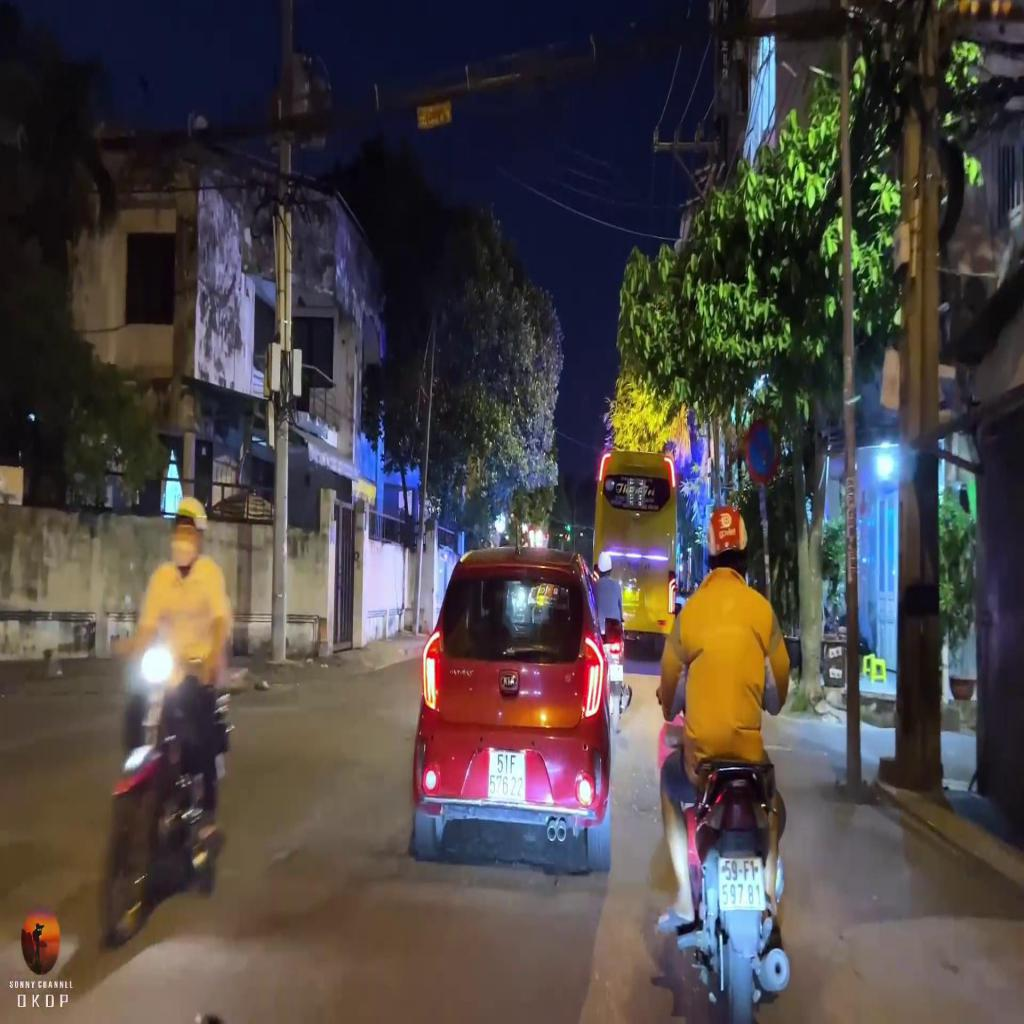cam_do_xe: (746, 416, 781, 482)
